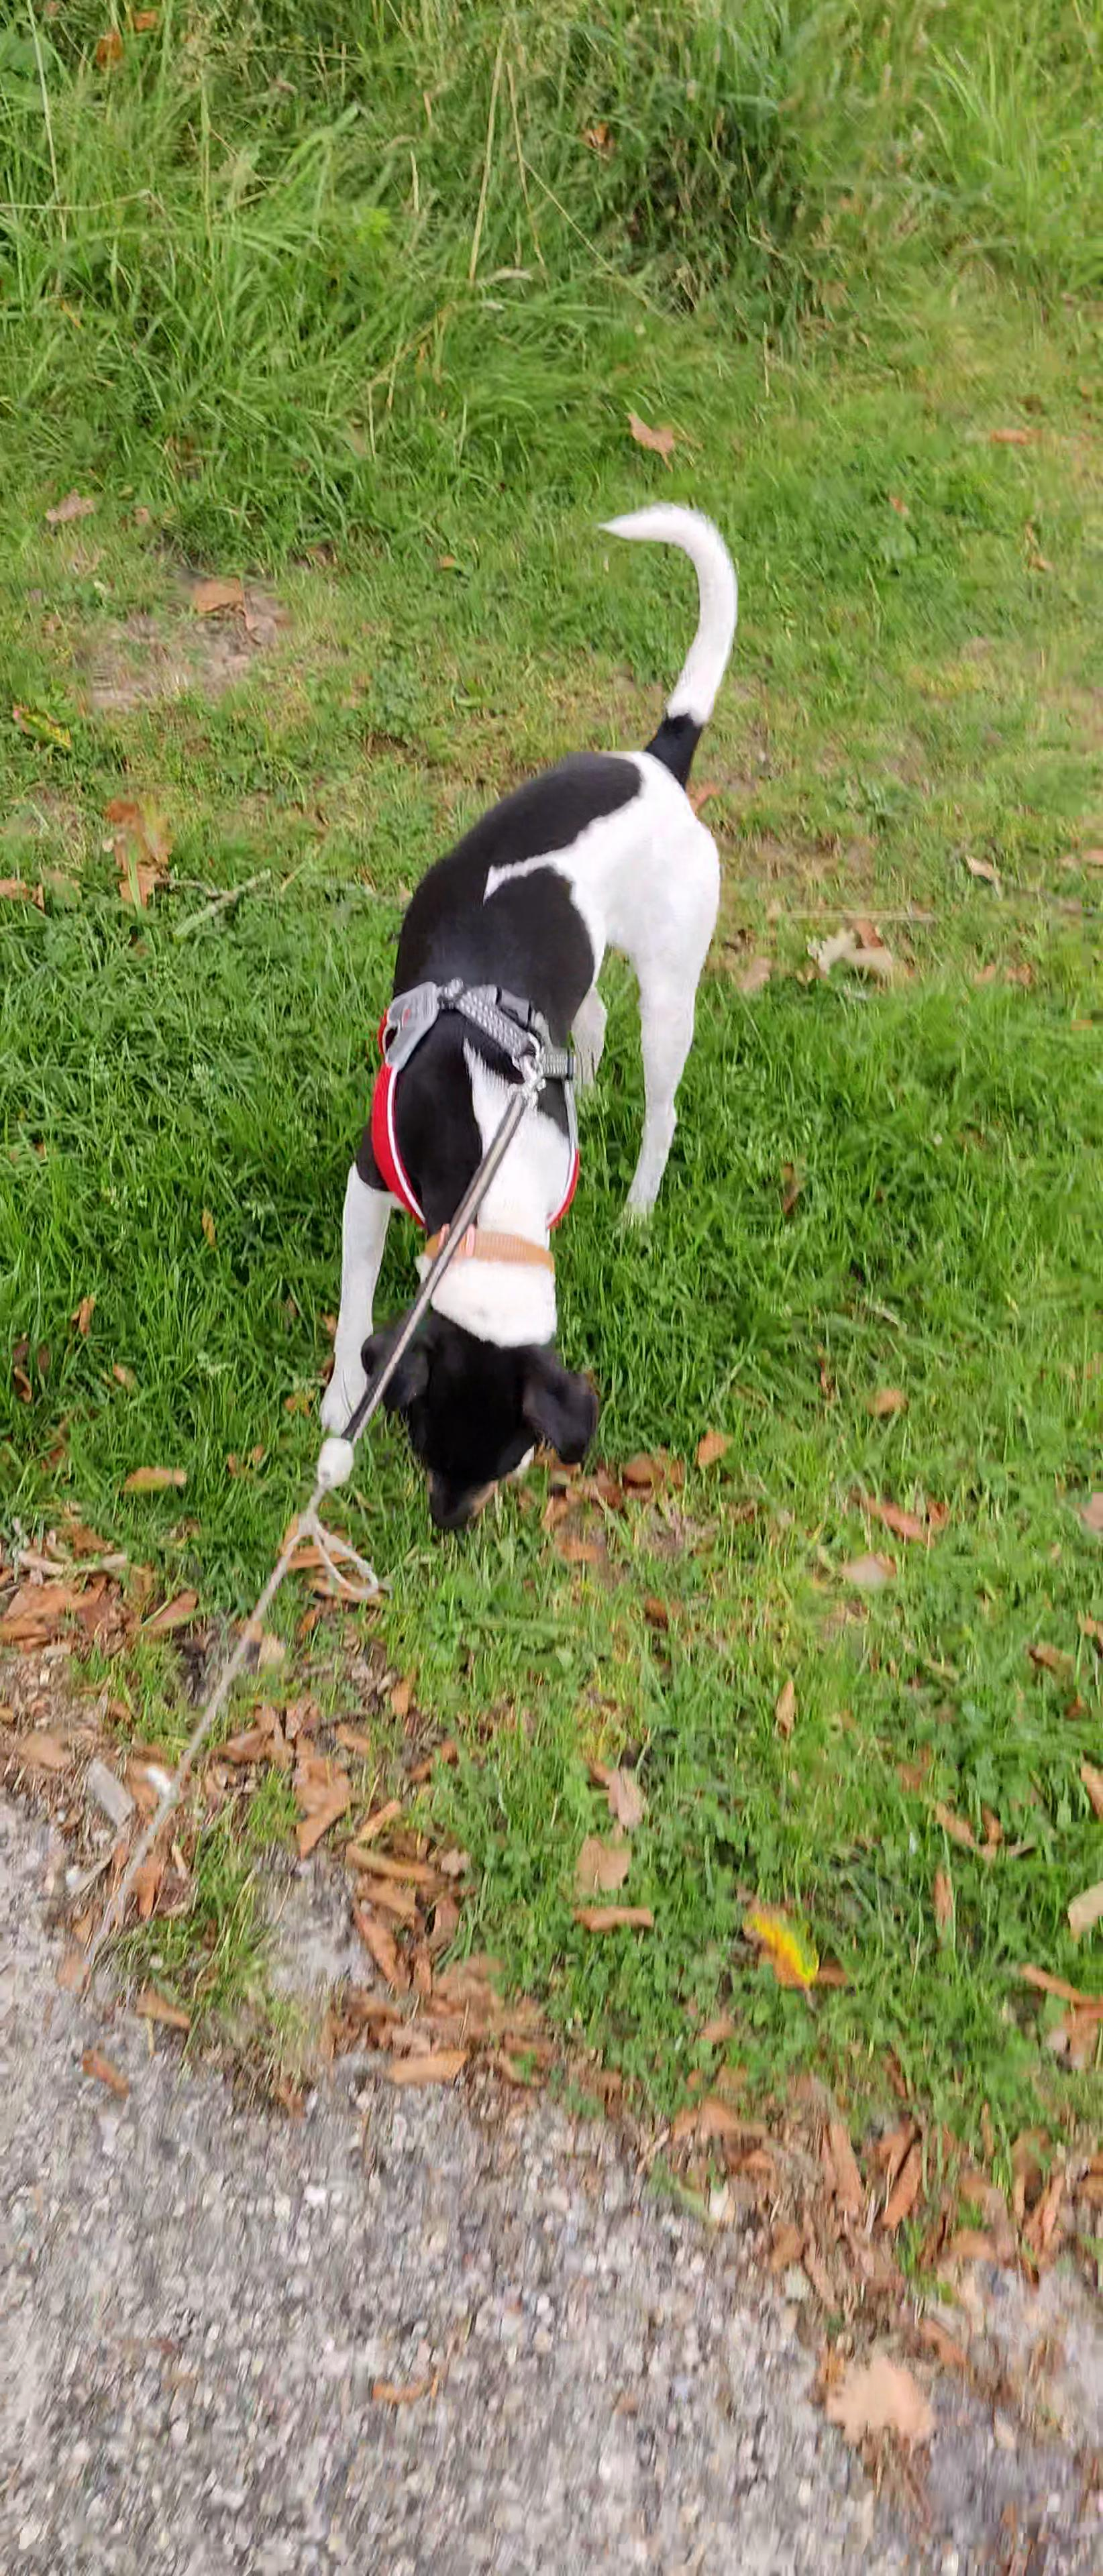Dog: (302, 494, 743, 1546)
